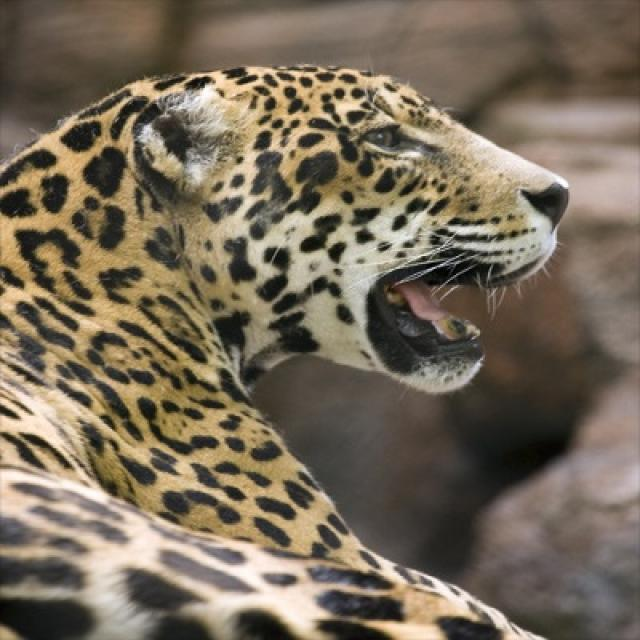Jaguar: (0, 64, 571, 638)
